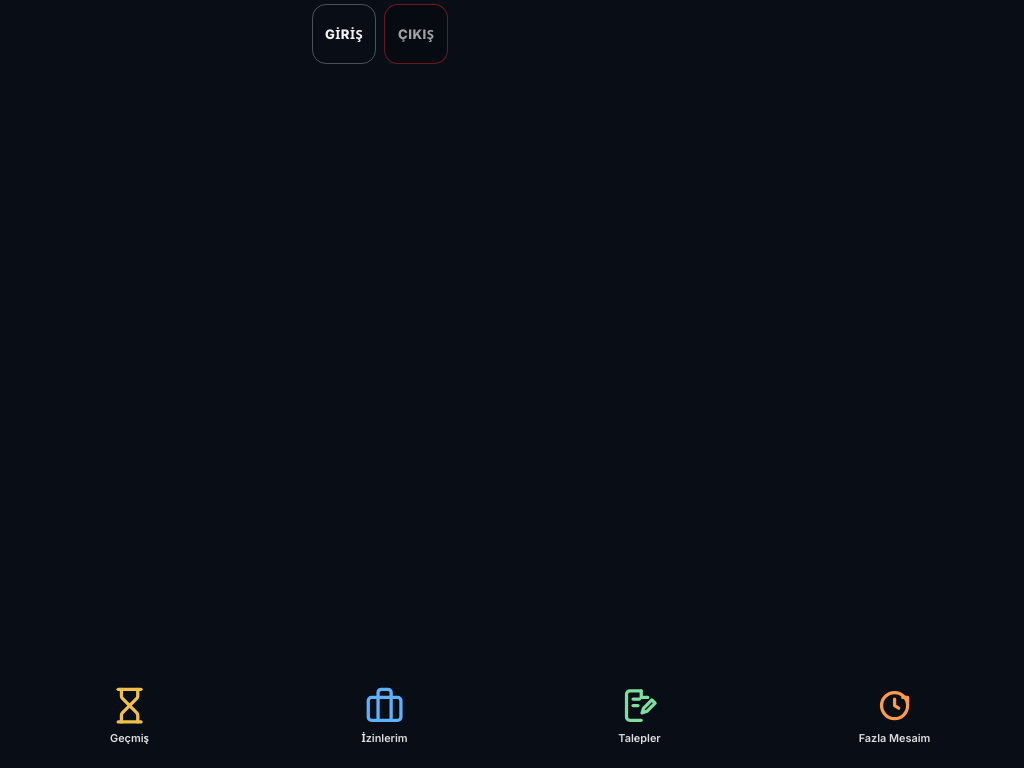
Test case: PERSONEL collar → QR UI entitlement (render level) › E) PERSONEL + Mavi Yaka: QR actions are visible
This screenshot has width=1024, height=768.
Expected: the button with test id "giris-scan" is enabled, [313, 5, 375, 63]
Click the button with test id "cikis-scan" at (416, 34), box [385, 5, 447, 63]
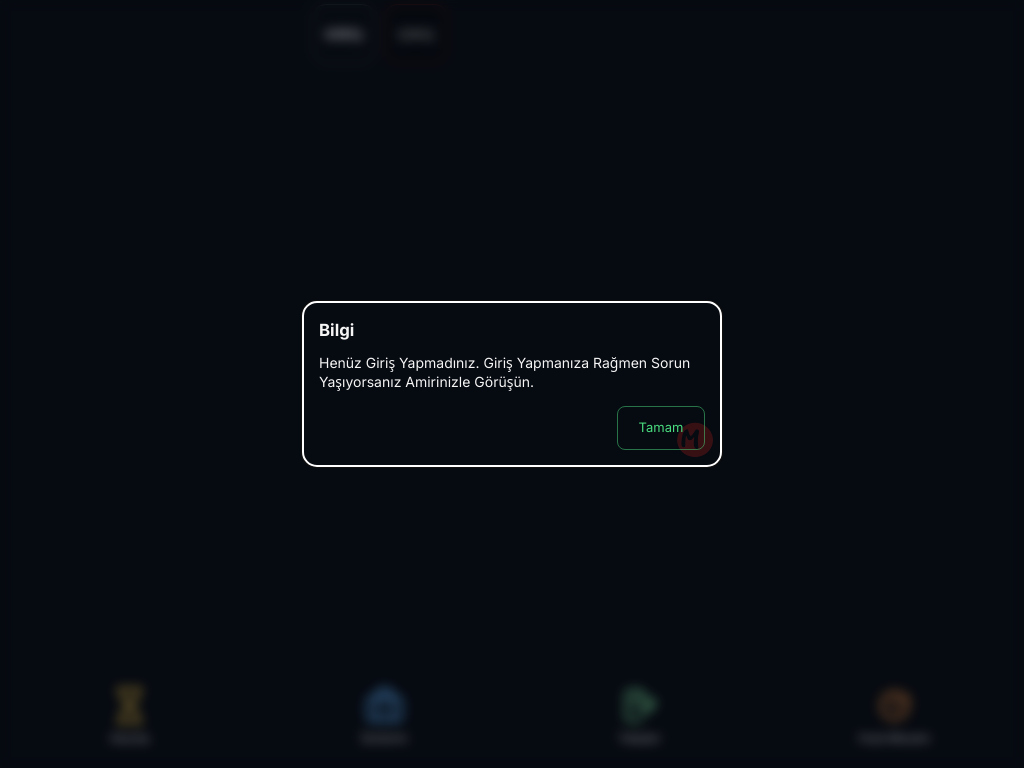
Expected: the element with test id "personel-today-attendance-section" is shown, [312, 4, 448, 64]
Expected: the dialog with test id "personel-notice-modal" is shown, [302, 301, 722, 467]
Expected: the text "Henüz Giriş Yapmadınız. Giriş Yapmanıza Rağmen Sorun Yaşıyorsanız Amirinizle Görüşün." is shown, [319, 354, 690, 390]
